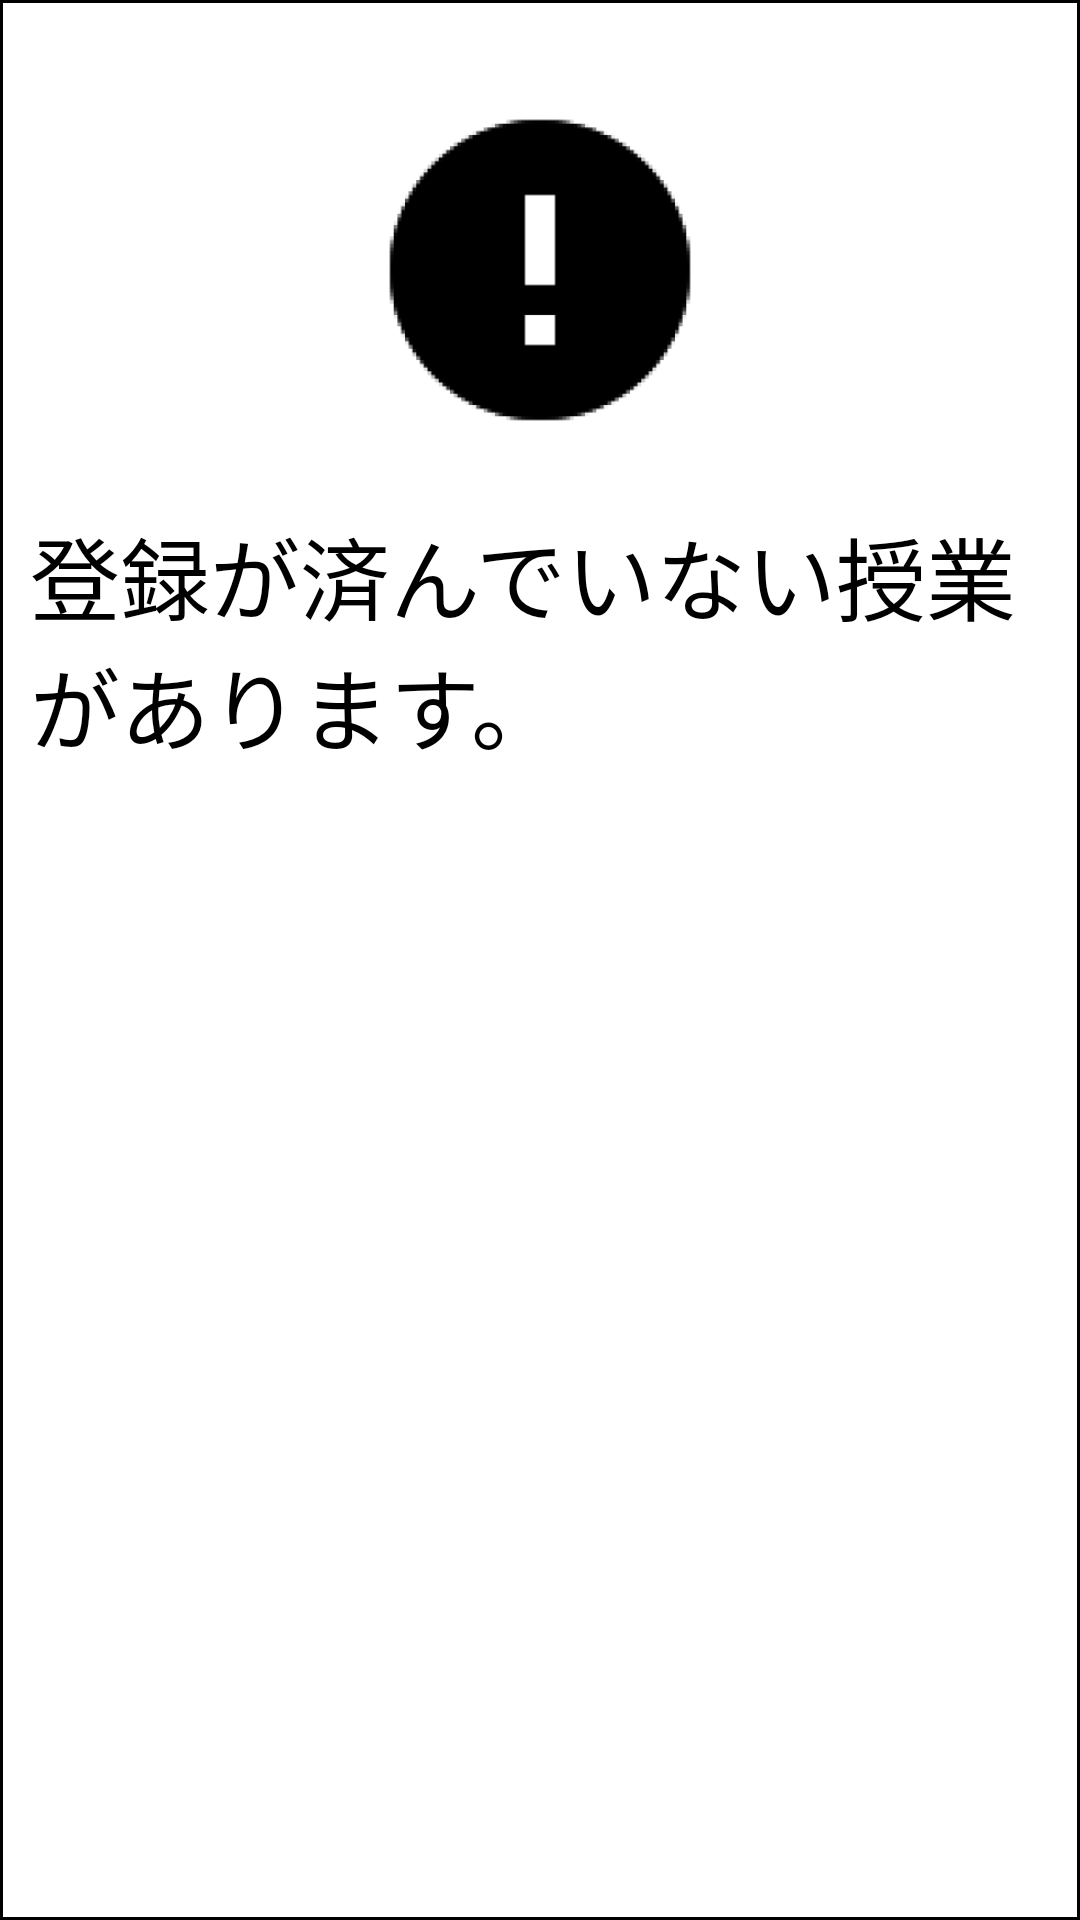

Icons on this 1080×1920 Android screen, each with its box as (x1, y1, x2, y2):
exclamation: (389, 119, 691, 421)
